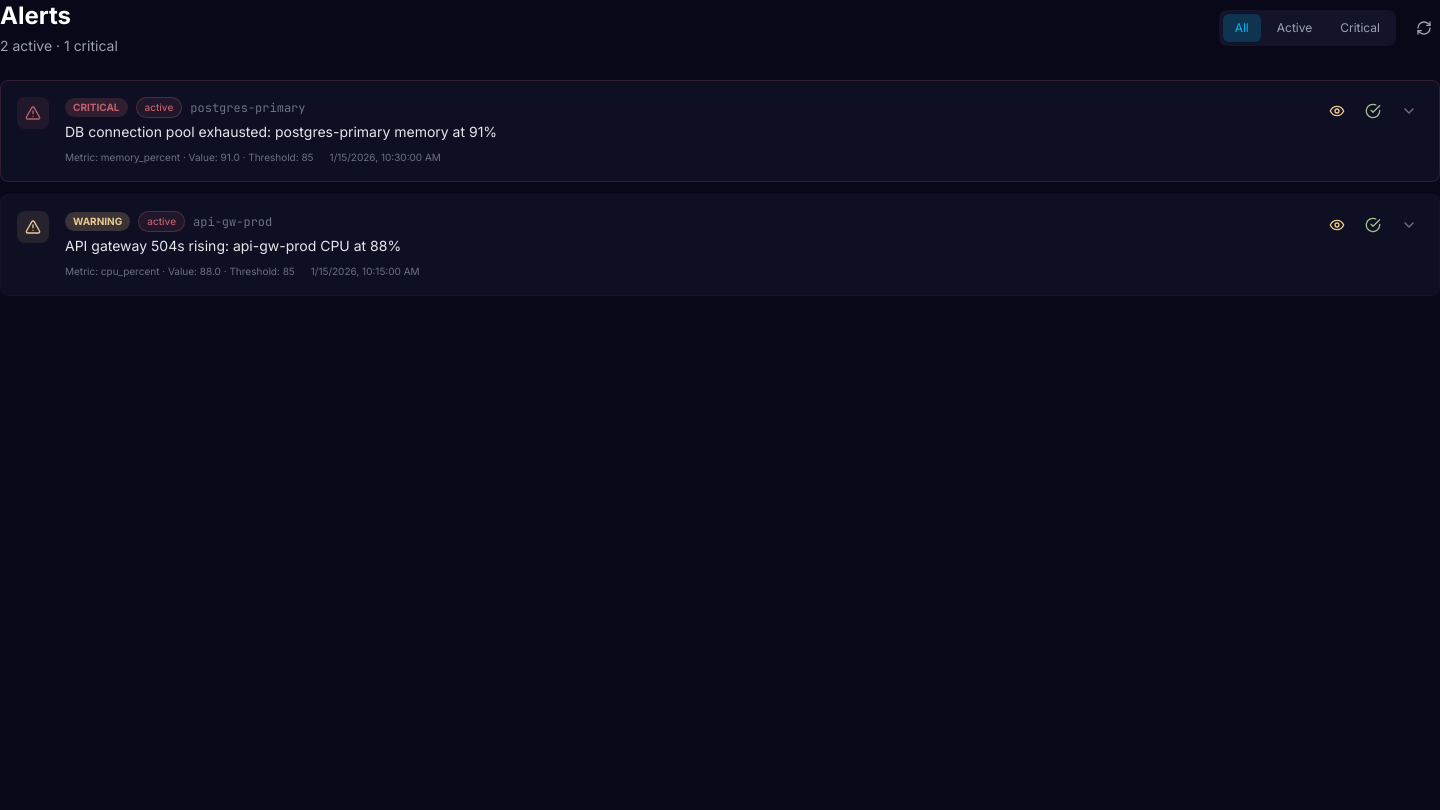
Test: AlertPanel › high-risk confirmation › shows confirmation dialog when clicking a high-risk action
Click the button with class "lucide-chevron-down".
click(1409, 111)  # box [1395,97,1423,125]
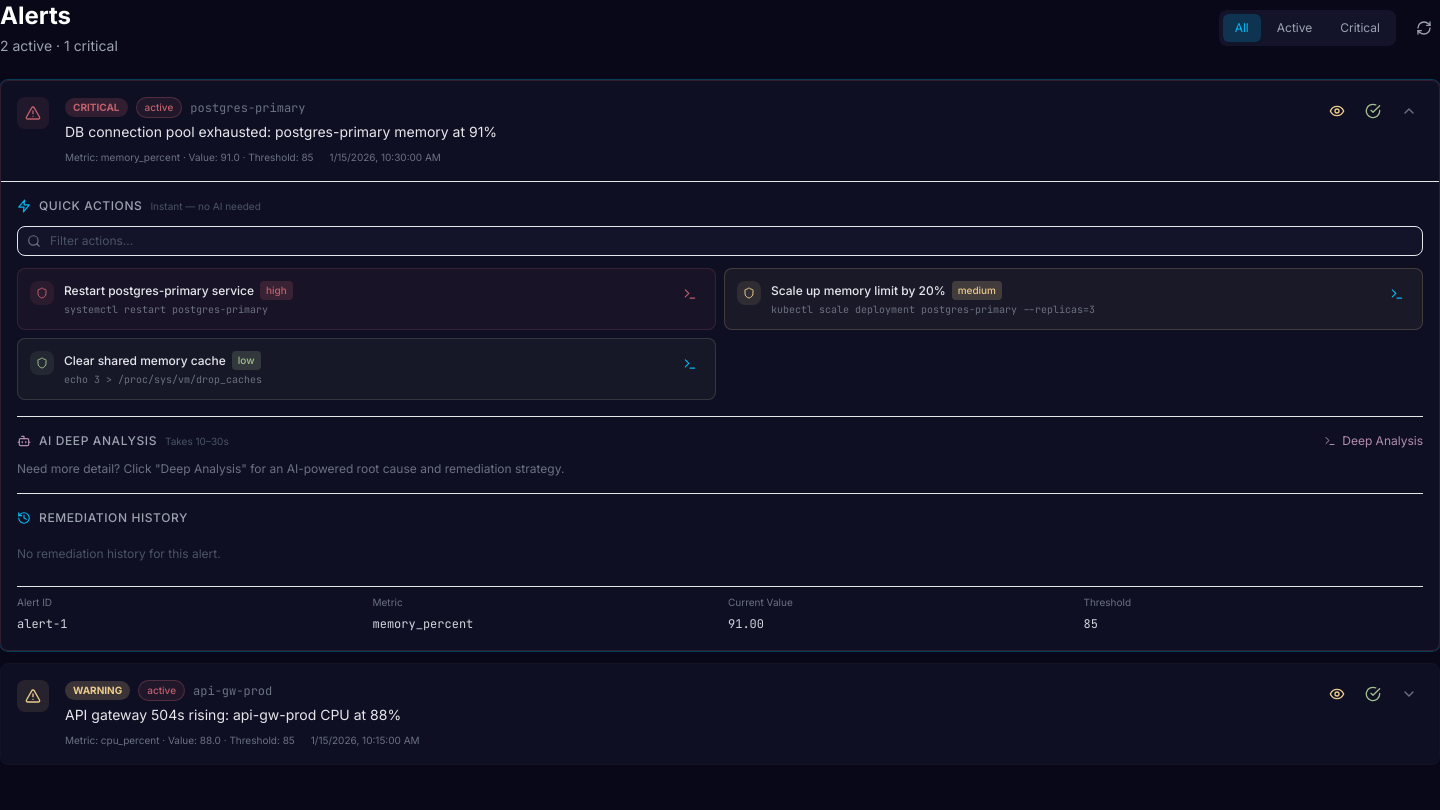
Expected: the text "Restart postgres-primary service" is shown, [64,282,254,298]
# High-risk action has title "Click to confirm execution"
Click the button titled "Click to confirm execution".
click(690, 294)  # box [677,281,703,307]
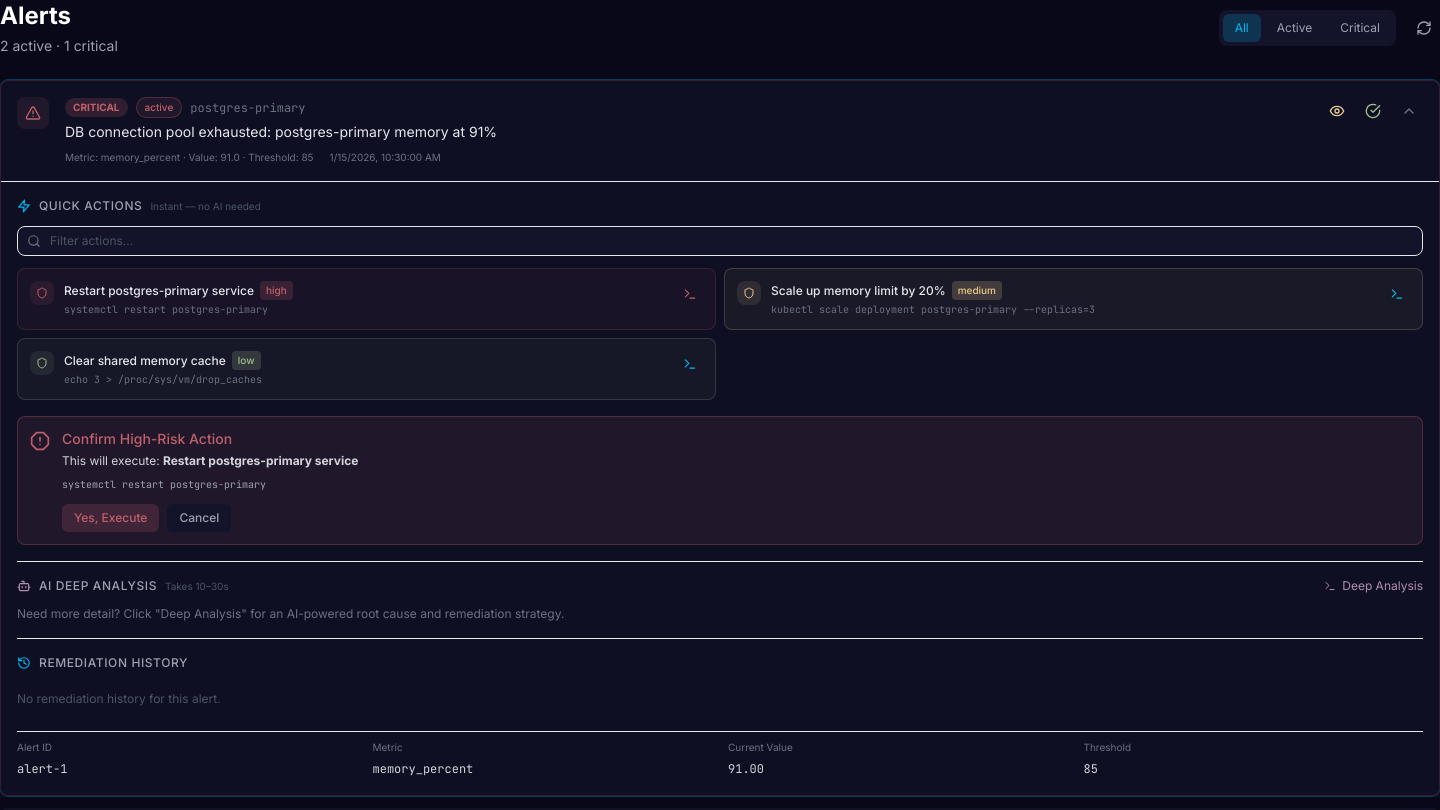
Expected: the text "Confirm High-Risk Action" is shown, [62,430,232,447]
Expected: the button "Yes, Execute" is shown, [62,504,159,532]
Expected: the button "Cancel" is shown, [167,504,231,532]
